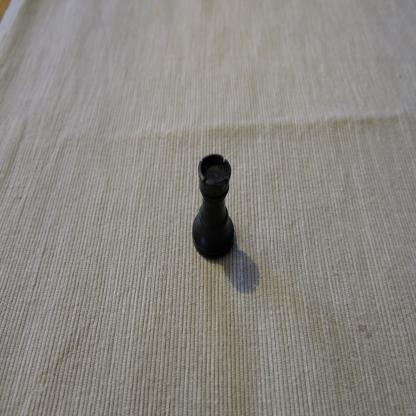black-rook: (192, 153, 236, 261)
